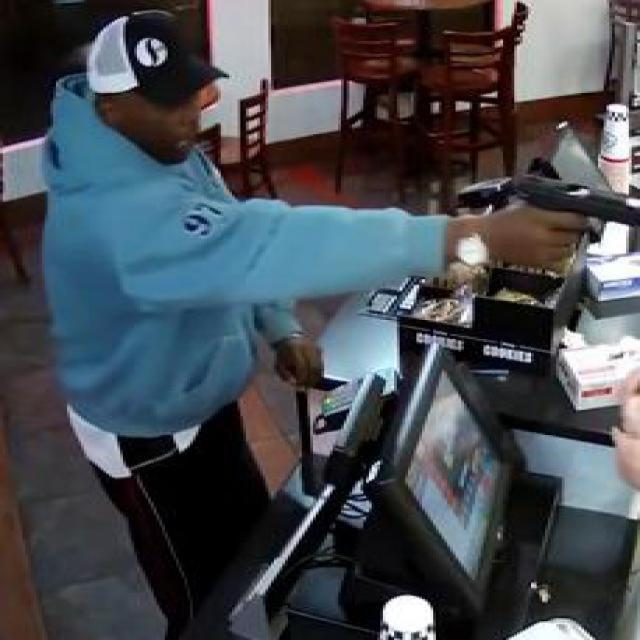weapon: (508, 173, 640, 239)
